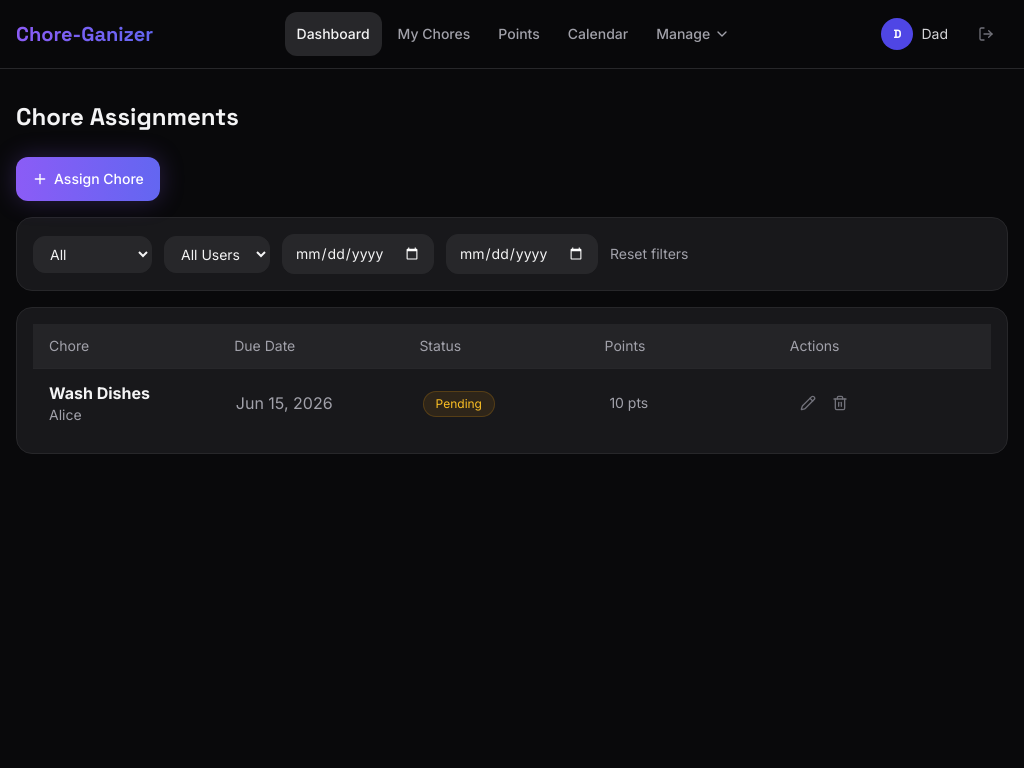
Test: AssignmentsPage › shows edit form with pre-filled values
Click the button named "Edit assignment".
click(808, 403)  # box [796, 391, 820, 415]
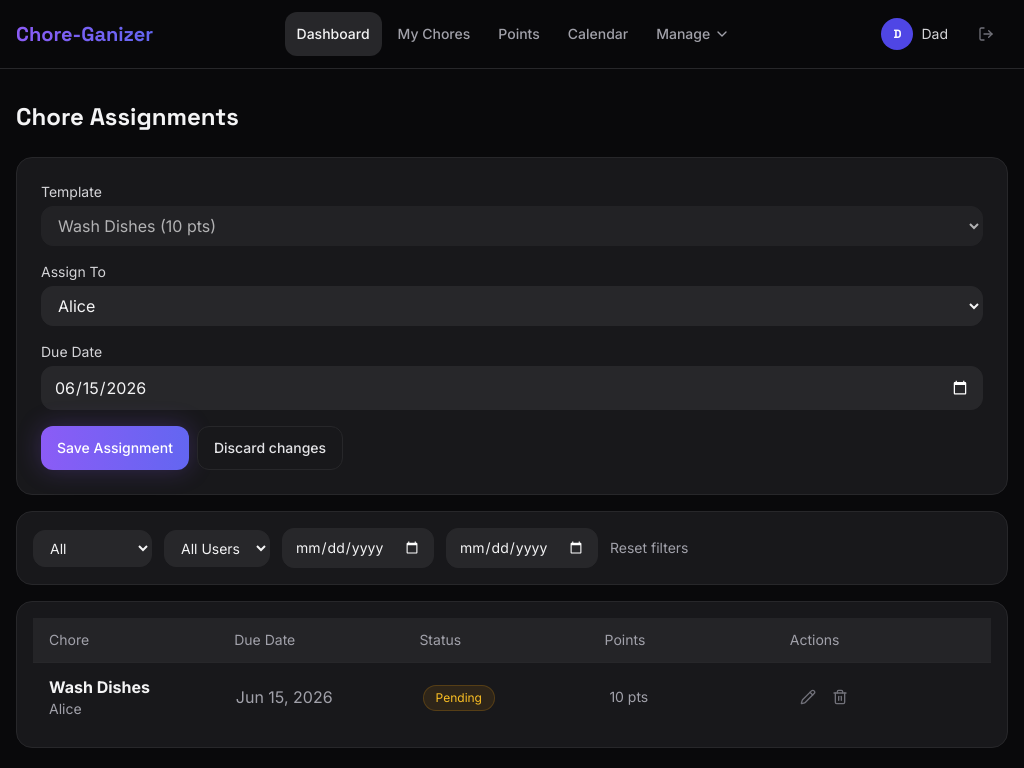
Now the dropdown labelled "Template" shows "Wash Dishes (10 pts)", box [41, 206, 983, 246]
